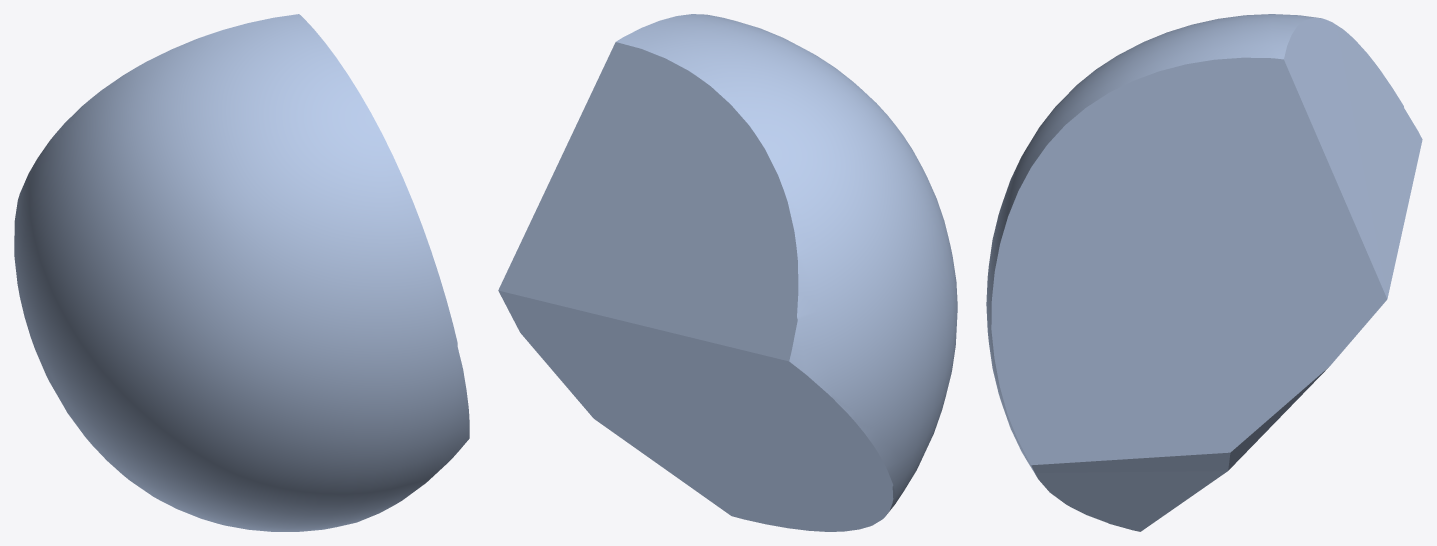
The model's file is Ball1_2.fbx.
3 renders of one model, left to right at view 1: azimuth 30°, elevation 25°; view 2: azimuth 150°, elevation 25°; view 3: azimuth 270°, elevation 25°, orthographic. The views are drawn at different scales.
Parts seen in each view (by area): view 1: Cube_cell.078; view 2: Cube_cell.078; view 3: Cube_cell.078.
Boxes of the visible parts, <box> form: Cube_cell.078: <box>14,14,469,531</box>; Cube_cell.078: <box>498,14,957,531</box>; Cube_cell.078: <box>986,14,1422,531</box>.
Size of the model in its own units: 118 by 160 by 128.
